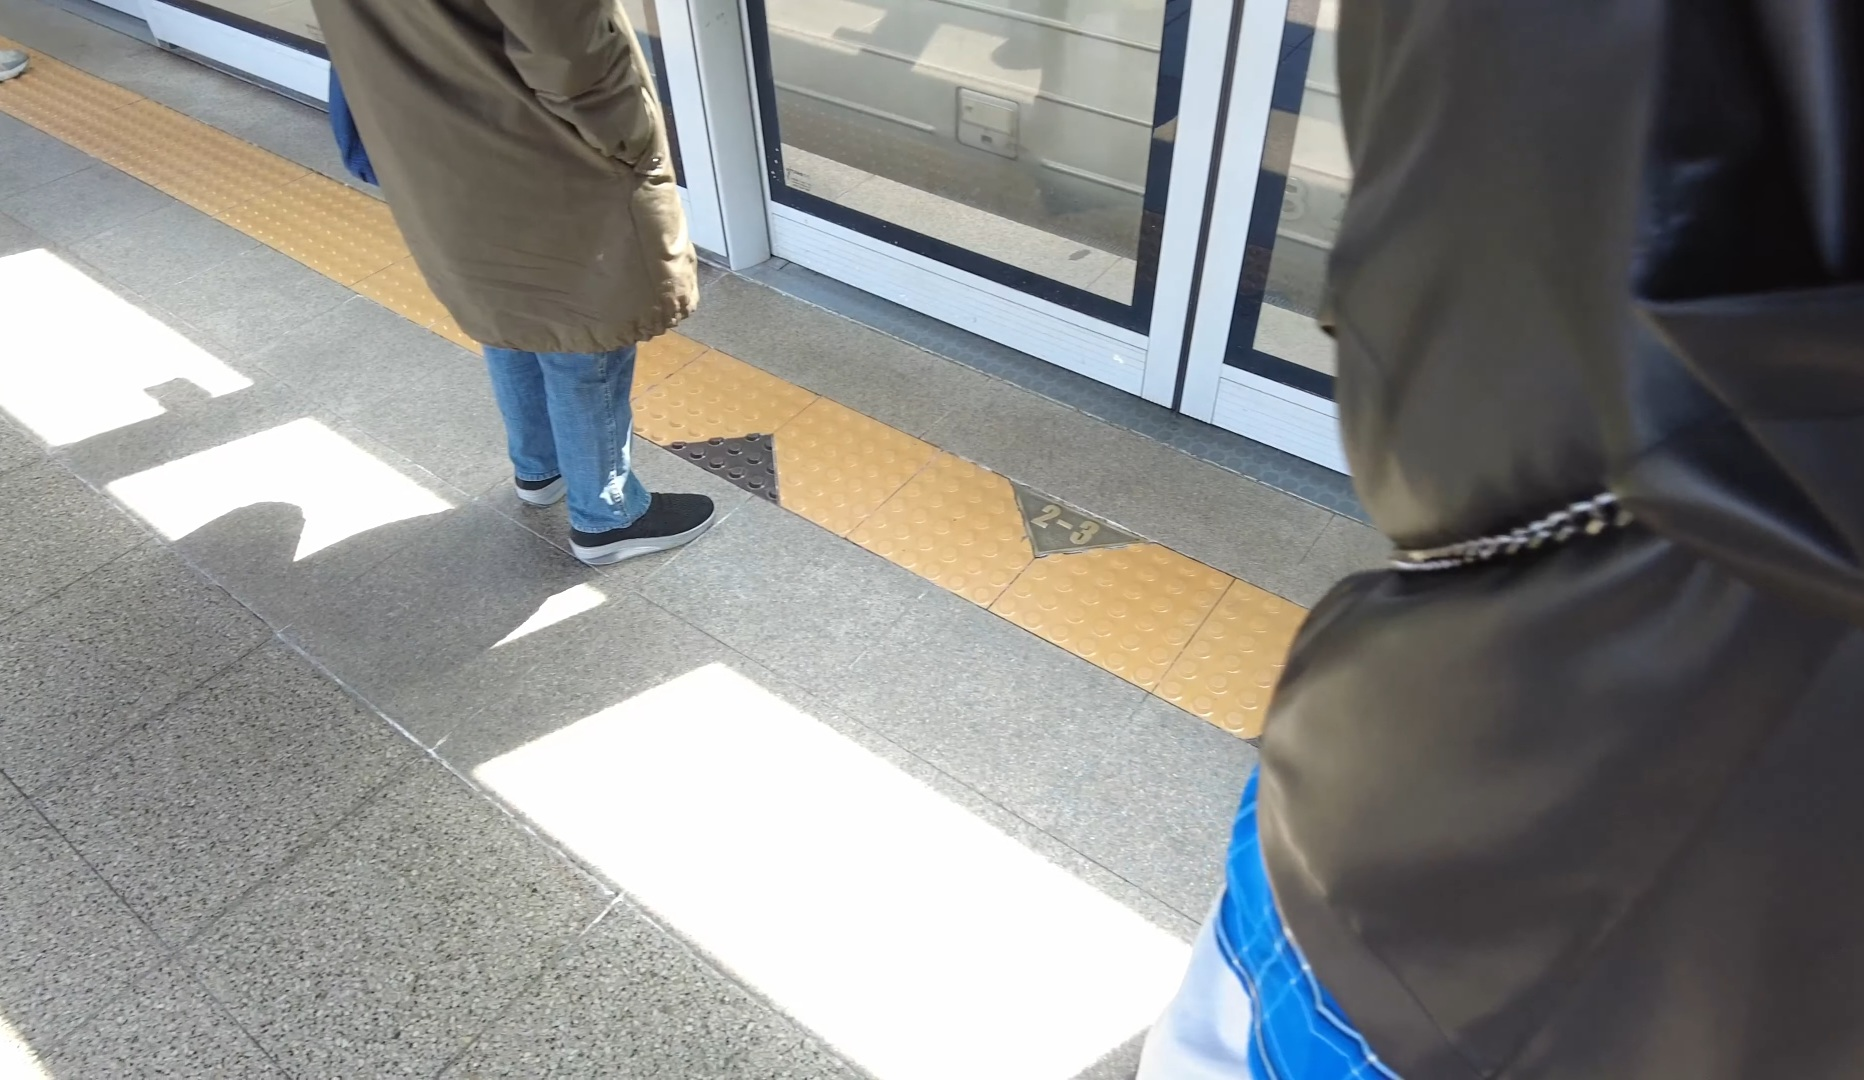warningBlock: (1037, 498, 1199, 674), (908, 442, 1034, 604), (767, 388, 904, 528), (1203, 564, 1292, 730), (656, 337, 769, 453)
